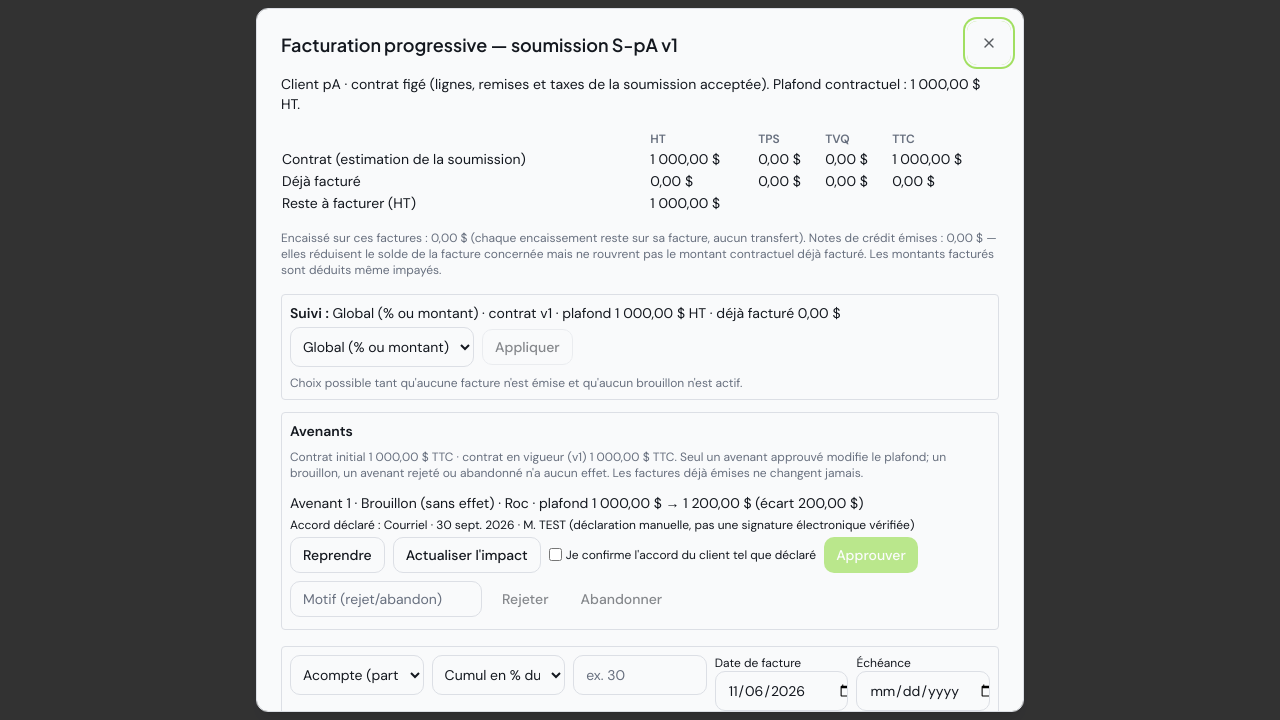
Test case: FIN-09B2 relecture UI — approbation d'un avenant repris › édition après reprise : approbation impossible jusqu'à l'impact recalculé, puis bon id/rev/hash
Later steps or results of the test are not shown.
Click the checkbox labelled "Je confirme l'accord du client tel que déclaré".
click(555, 555)  # box [549,548,562,561]
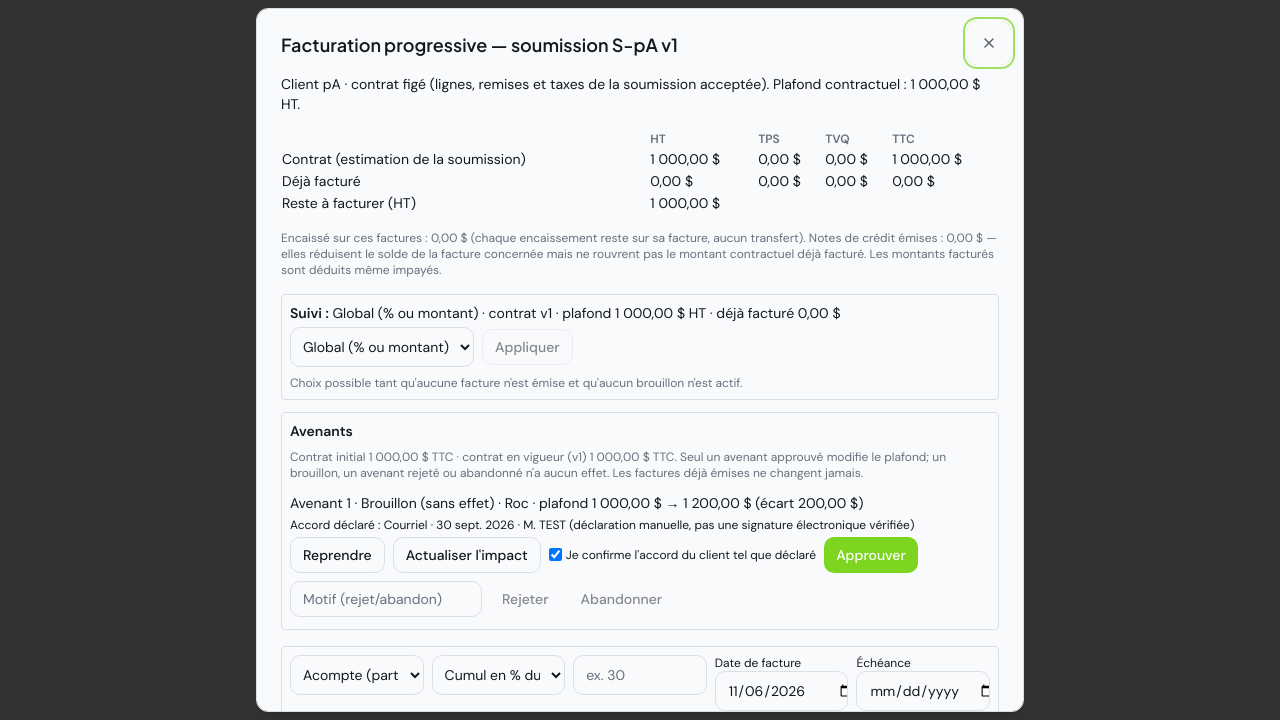
Expected: the button "Approuver" is enabled, [824,537,918,573]
Click the button "Reprendre".
click(337, 555)  # box [290,537,385,573]
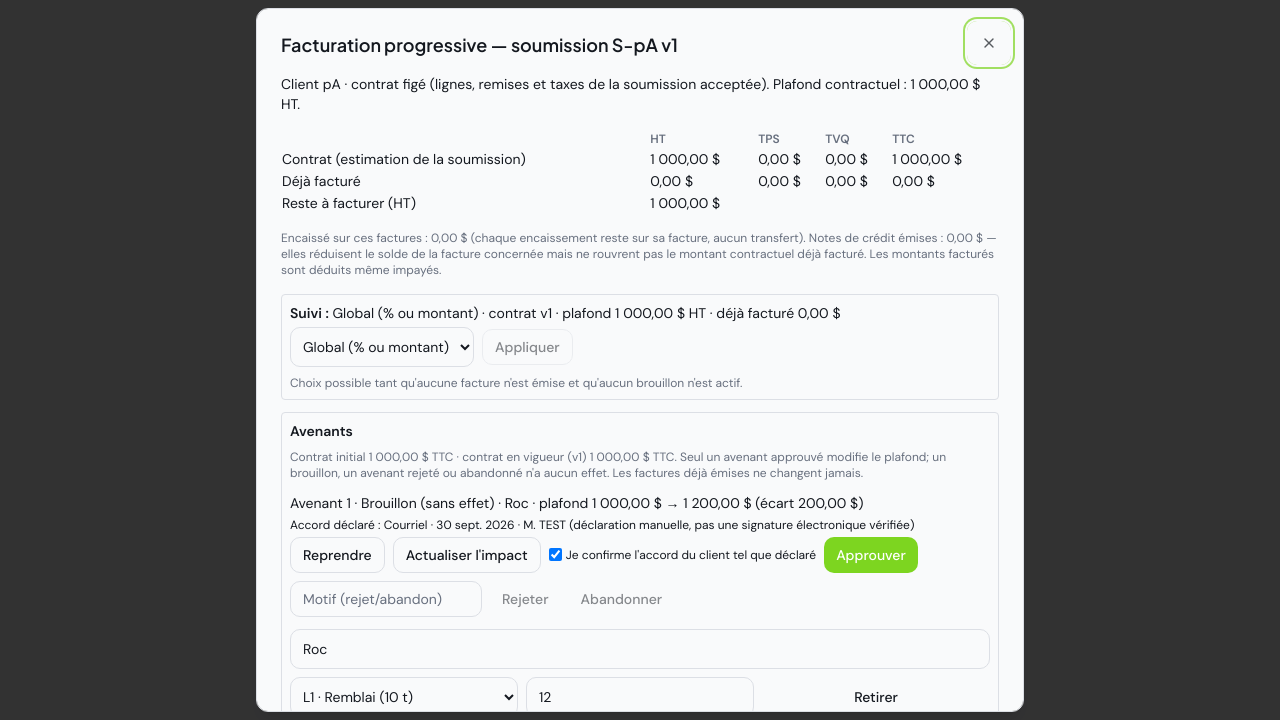
Replace the text in the field named "Nouvelle quantité contractuelle" with "13" at (640, 697), box [526,677,754,717]
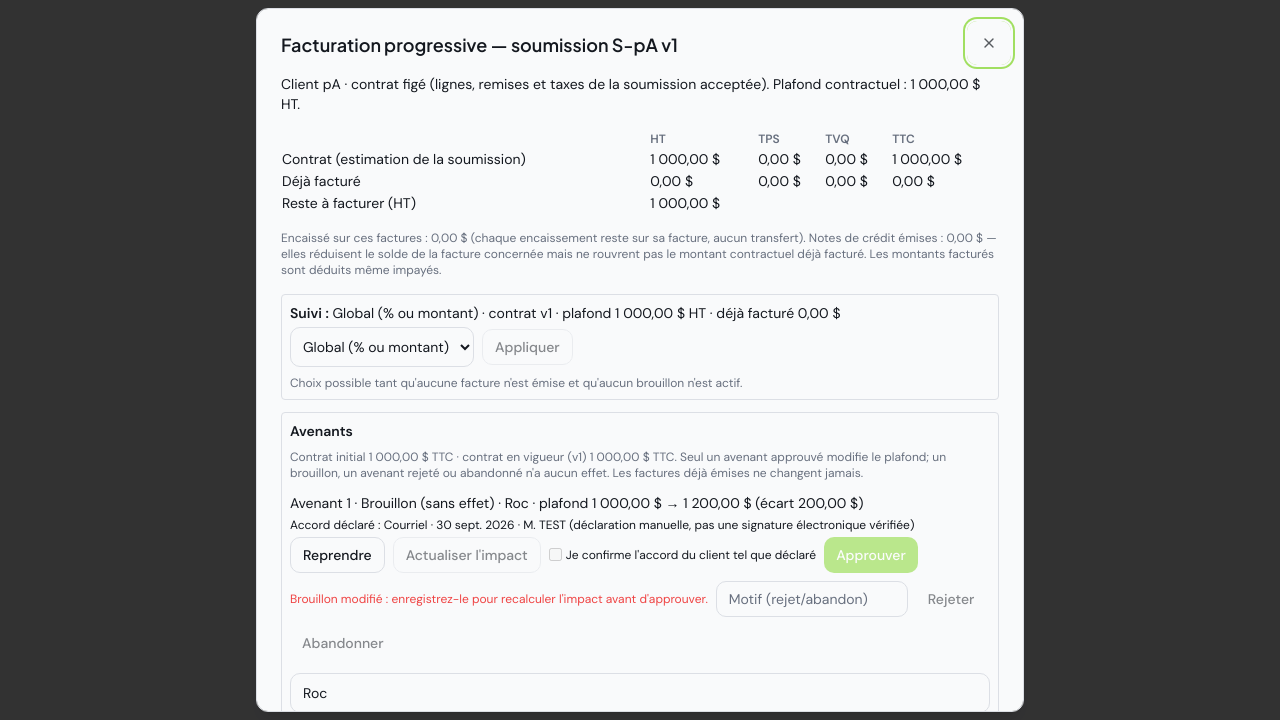
Expected: the checkbox labelled "Je confirme l'accord du client tel que déclaré" is not checked, [549,548,562,561]
Expected: the checkbox labelled "Je confirme l'accord du client tel que déclaré" is disabled, [549,548,562,561]
Expected: the button "Approuver" is disabled
Click the button "Approuver".
click(871, 555)  # box [824,537,918,573]
(page scrolled)
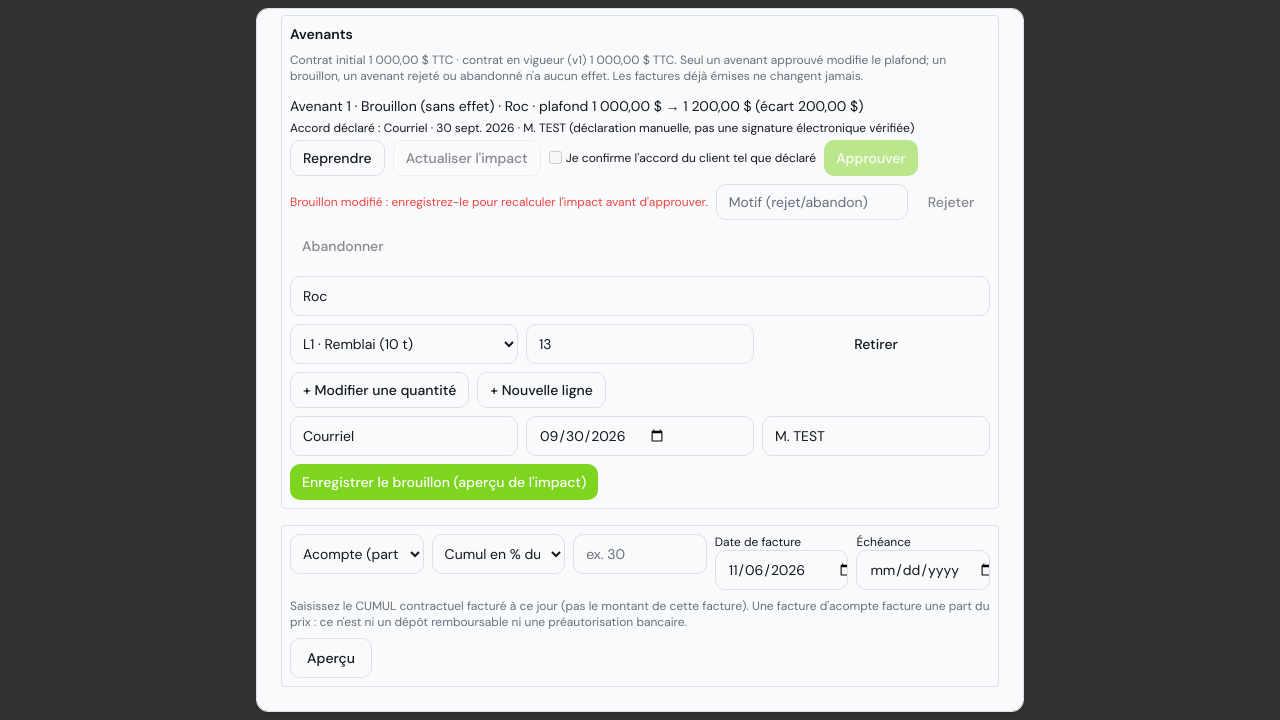
Click the button "Enregistrer le brouillon (aperçu de l'impact)".
click(444, 482)  # box [290,464,598,500]
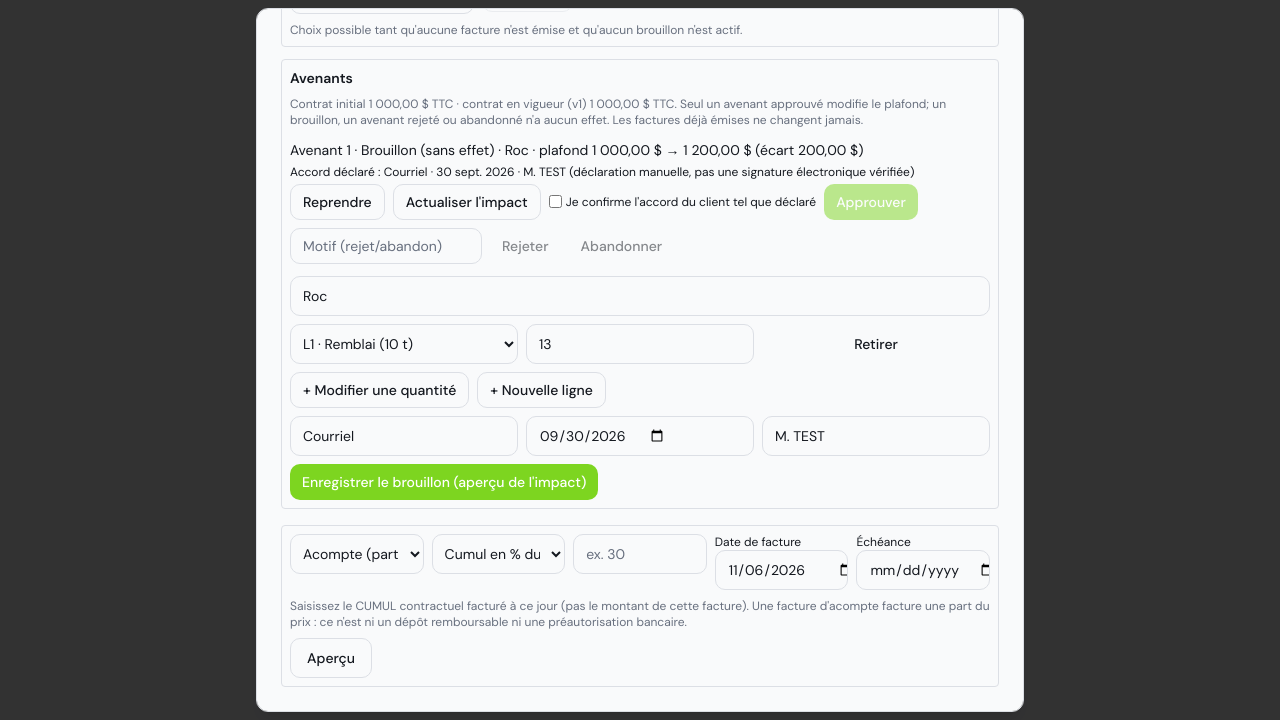
Expected: the checkbox labelled "Je confirme l'accord du client tel que déclaré" is not checked, [549,195,562,208]
Expected: the text "Brouillon modifié : enregistrez-le" is gone
Expected: the checkbox labelled "Je confirme l'accord du client tel que déclaré" is enabled, [549,195,562,208]
